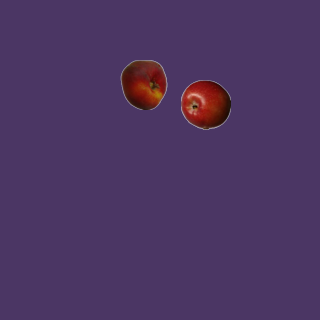Apple Braeburn: (180, 79, 230, 129)
Nectarine Flat: (118, 59, 168, 109)
